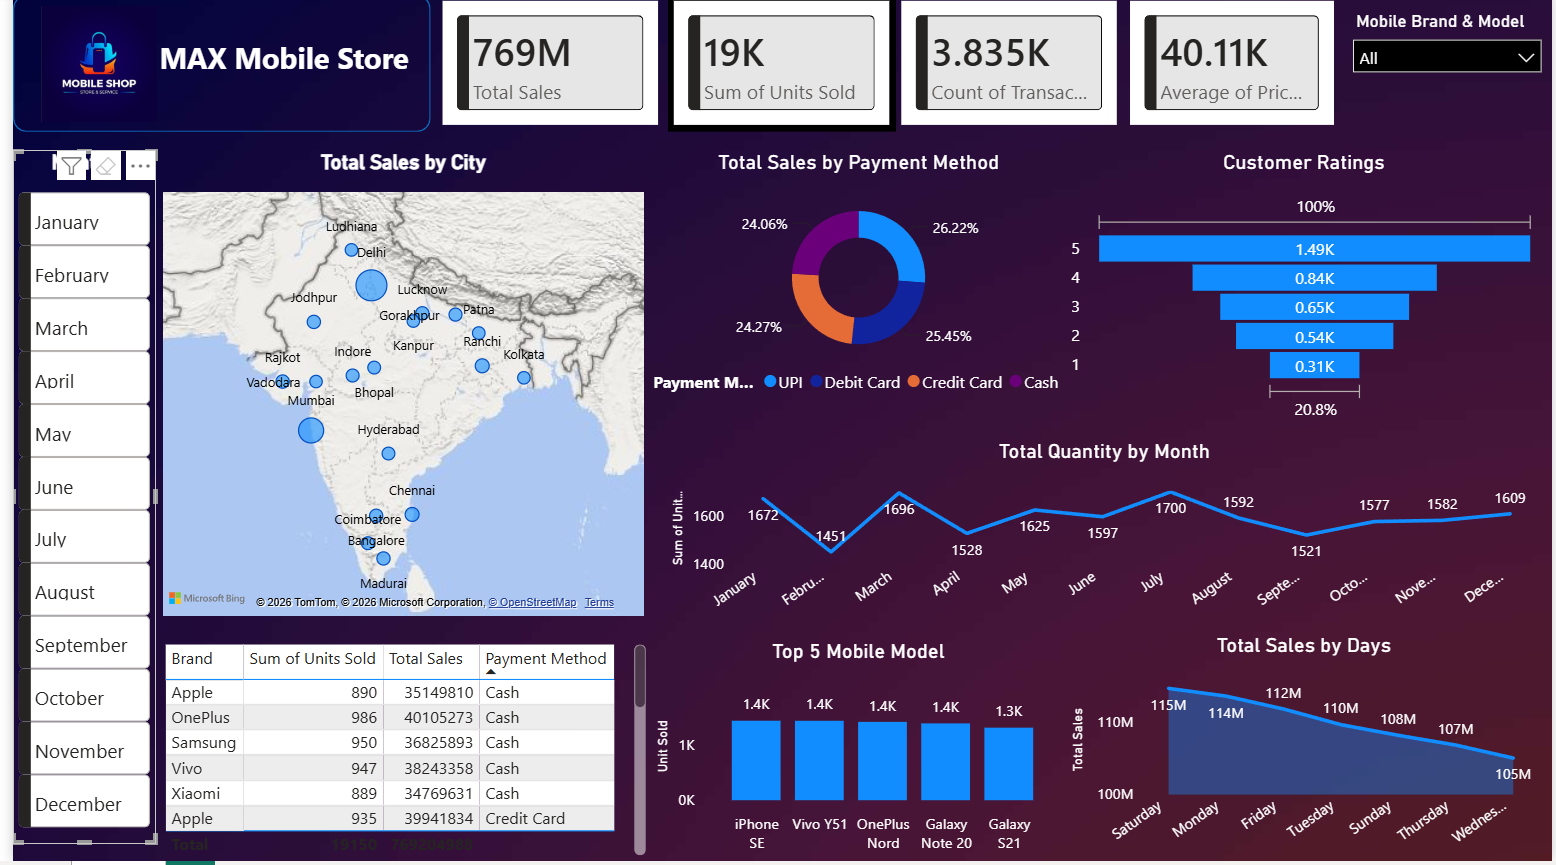

This screenshot's page, from the dashboard's own definition file:
{"tool":"powerbi","page":{"name":"Page 1","canvas":[1280,720],"ordinal":0},"visuals":[{"type":"shape","box":[0,0,347.2,113.9],"z":0},{"type":"advancedSlicerVisual","title":"Months","fields":{"Values":["Sales Data.Date.Variation.Date Hierarchy.Month"]},"box":[0,129,119.4,576.3],"z":1000},{"type":"cardVisual","fields":{"Data":["Sum(Sales Data.Units Sold)"]},"box":[544.8,0,189.4,113.9],"z":2000},{"type":"cardVisual","fields":{"Data":["CountNonNull(Sales Data.Transaction ID)"]},"box":[734.1,0,189.4,113.9],"z":3000},{"type":"cardVisual","fields":{"Data":["Avg(Sales Data.Price Per Unit)"]},"box":[923.5,0,179.8,113.9],"z":4000},{"type":"cardVisual","fields":{"Data":["Sales Data.Total Sales"]},"box":[352.7,0,189.4,113.9],"z":5000},{"type":"clusteredColumnChart","title":"Top 5 Mobile Model","fields":{"Category":["Sales Data.Mobile Model"],"Y":["Sum(Sales Data.Units Sold)"]},"box":[529.7,535.2,345.8,185.2],"z":6000},{"type":"map","fields":{"Size":["Sales Data.Total Sales"],"Category":["Sales Data.City"]},"box":[119.4,129,410.3,392.5],"z":7000},{"type":"lineChart","title":"Total Quantity by Month","fields":{"Y":["Sum(Sales Data.Units Sold)"],"Category":["Sales Data.Date.Variation.Date Hierarchy.Month"]},"box":[542,369.1,730,152.3],"z":7001},{"type":"donutChart","fields":{"Category":["Sales Data.Payment Method"],"Y":["Sales Data.Total Sales"]},"box":[522.8,129,360.9,211.3],"z":7002},{"type":"funnel","title":"Customer Ratings","fields":{"Category":["Sales Data.Customer Ratings"],"Y":["CountNonNull(Sales Data.Customer Ratings)"]},"box":[875.5,129,396.6,230.5],"z":7003},{"type":"areaChart","title":"Total Sales by Days","fields":{"Category":["Sales Data.Day Name"],"Y":["Sales Data.Total Sales"]},"box":[875.5,529.7,396.6,190.7],"z":7004},{"type":"tableEx","fields":{"Values":["Sales Data.Brand","Sum(Sales Data.Units Sold)","Sales Data.Total Sales","Sales Data.Payment Method"]},"box":[120.8,535.2,410.3,185.2],"z":7005},{"type":"slicer","fields":{"Values":["Sales Data.Brand","Sales Data.Mobile Model"]},"box":[1103.3,8.2,177,97.4],"z":7006},{"type":"image","box":[5.5,9.6,133.1,96.1],"z":7007},{"type":"textbox","box":[104.3,31.6,242.9,50.8],"z":7008}]}

Visuals, with their boxes in screenshot pixels (x1, y1, x2, y2), scaled from the page's 1280x720 canvas onto the 1556x865 screenshot:
shape: l=0, t=0, r=422, b=137
"Months" advancedSlicerVisual: l=0, t=155, r=145, b=847
cardVisual - Sum(Sales Data.Units Sold): l=662, t=0, r=893, b=137
cardVisual - CountNonNull(Sales Data.Transaction ID): l=892, t=0, r=1123, b=137
cardVisual - Avg(Sales Data.Price Per Unit): l=1123, t=0, r=1341, b=137
cardVisual - Sales Data.Total Sales: l=429, t=0, r=659, b=137
"Top 5 Mobile Model" clusteredColumnChart: l=644, t=643, r=1064, b=864
map - Sales Data.Total Sales x Sales Data.City: l=145, t=155, r=644, b=627
"Total Quantity by Month" lineChart: l=659, t=443, r=1546, b=626
donutChart - Sales Data.Payment Method x Sales Data.Total Sales: l=636, t=155, r=1074, b=409
"Customer Ratings" funnel: l=1064, t=155, r=1546, b=432
"Total Sales by Days" areaChart: l=1064, t=636, r=1546, b=864
tableEx - Sales Data.Brand x Sum(Sales Data.Units Sold): l=147, t=643, r=646, b=864
slicer - Sales Data.Brand x Sales Data.Mobile Model: l=1341, t=10, r=1555, b=127
image: l=7, t=12, r=168, b=127
textbox: l=127, t=38, r=422, b=99
